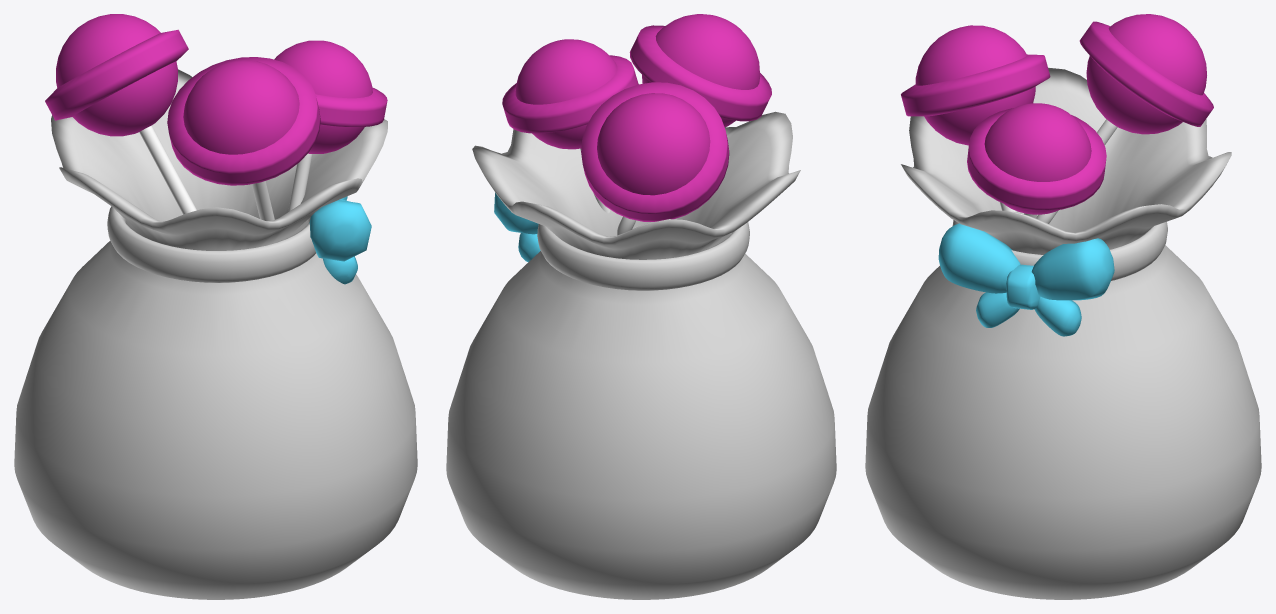
The model's file is snack4_candy_bag.FBX.
3 renders of one model, left to right at view 1: azimuth 30°, elevation 25°; view 2: azimuth 150°, elevation 25°; view 3: azimuth 270°, elevation 25°, orthographic. The views are drawn at different scales.
Parts seen in each view (by area): view 1: Cylinder005, Cylinder001, Cylinder006, Cylinder007, Torus001, Object; view 2: Cylinder005, Cylinder006, Cylinder001, Cylinder007, Torus001, Object; view 3: Cylinder005, Cylinder006, Cylinder007, Object, Cylinder001, Torus001.
Boxes of the visible parts, left/top/right/bottom form: Cylinder005: left=14, top=69, right=417, bottom=599; Cylinder001: left=167, top=57, right=320, bottom=221; Cylinder006: left=45, top=14, right=196, bottom=214; Cylinder007: left=274, top=40, right=387, bottom=211; Torus001: left=107, top=206, right=315, bottom=282; Object: left=309, top=196, right=371, bottom=284; Cylinder005: left=446, top=111, right=836, bottom=599; Cylinder006: left=581, top=82, right=729, bottom=221; Cylinder001: left=617, top=14, right=771, bottom=235; Cylinder007: left=502, top=39, right=638, bottom=213; Torus001: left=537, top=222, right=749, bottom=290; Object: left=494, top=192, right=540, bottom=262; Cylinder005: left=865, top=67, right=1261, bottom=599; Cylinder006: left=1036, top=14, right=1213, bottom=223; Cylinder007: left=967, top=103, right=1106, bottom=218; Object: left=938, top=223, right=1114, bottom=336; Cylinder001: left=901, top=25, right=1050, bottom=212; Torus001: left=952, top=220, right=1167, bottom=280.
Bounding box in the file's own units: 93.23 × 136 × 93.23.
